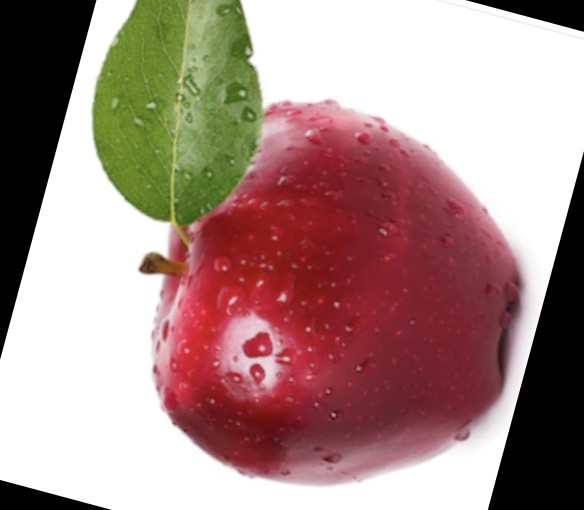fresh_apple: (152, 101, 525, 487)
